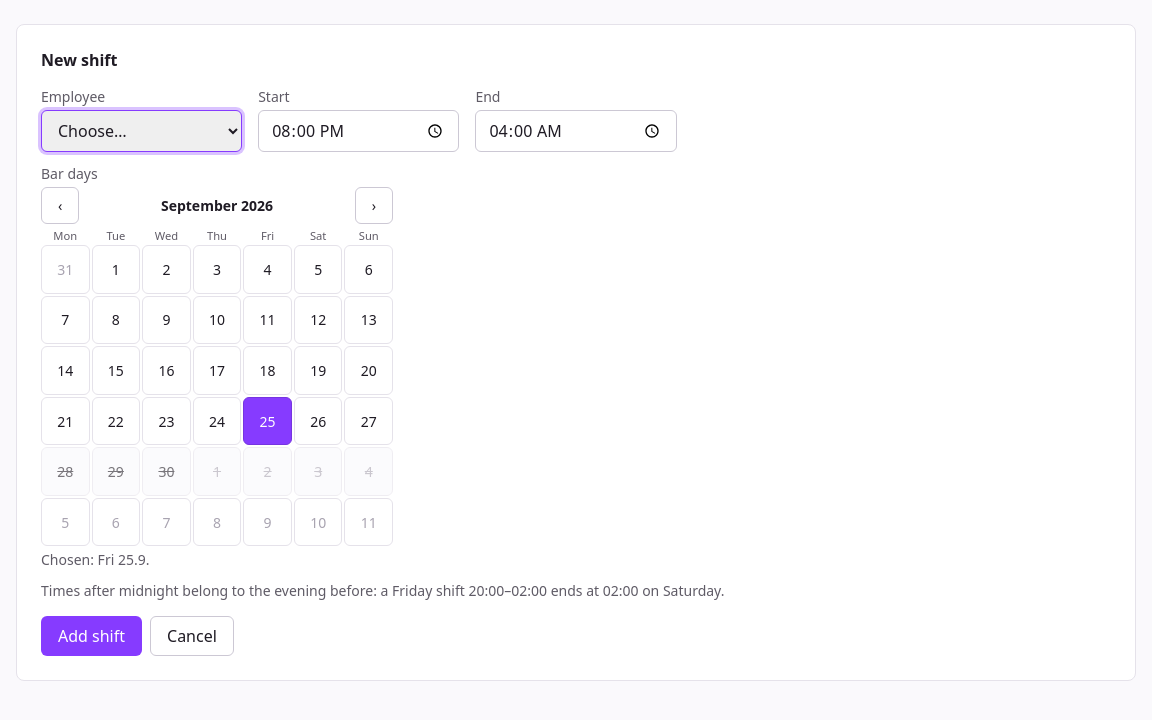
Test case: shows the backend error when saving fails
This screenshot has width=1152, height=720.
Select "Anna (manager)" in the dropdown labelled "Employee" at (142, 131), box 41,110 -> 242,152
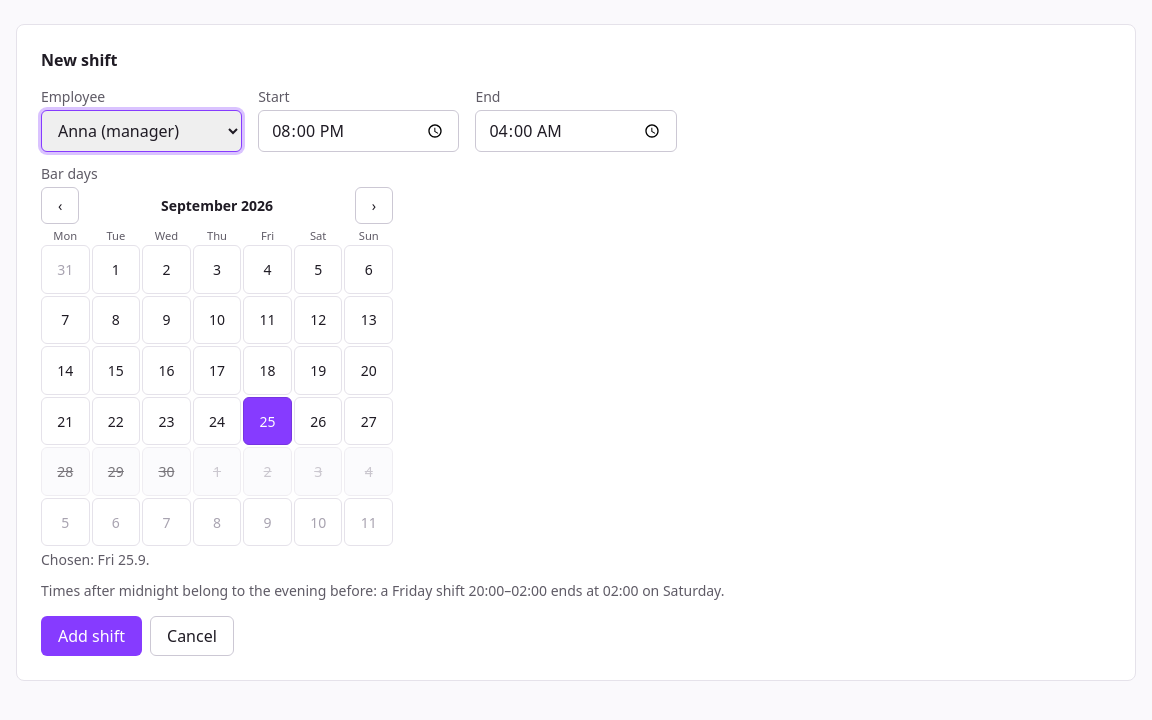
Click the button "Add shift" at (92, 636), box 41,616 -> 142,656
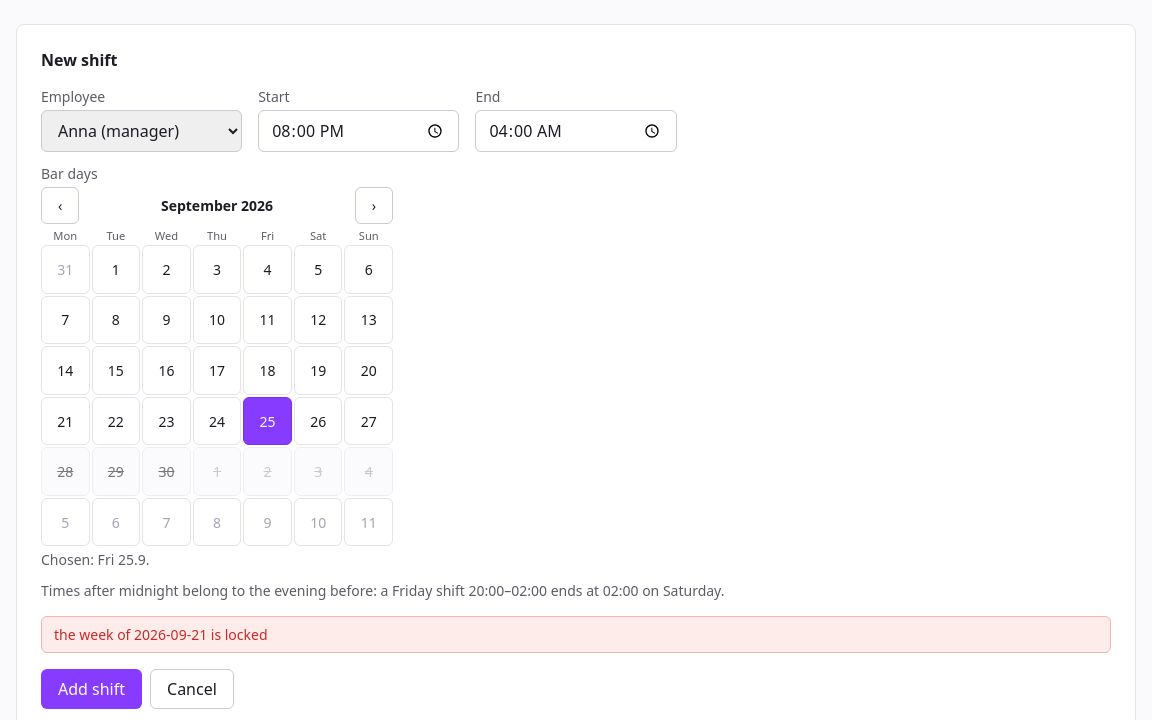
Expected: the message reads "the week of 2026-09-21 is locked", 54,626 -> 268,644
